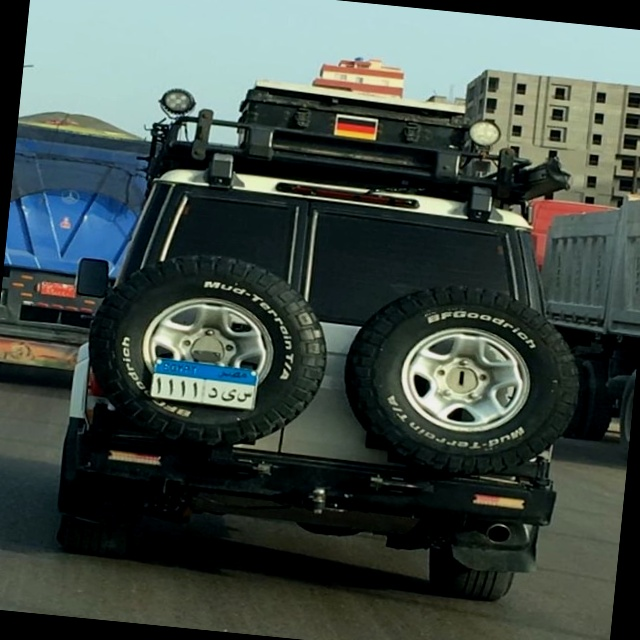License Plate: (145, 356, 264, 414)
